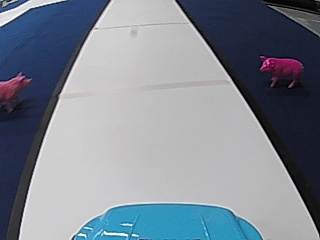pig: (255, 51, 304, 87), (1, 70, 32, 111)
